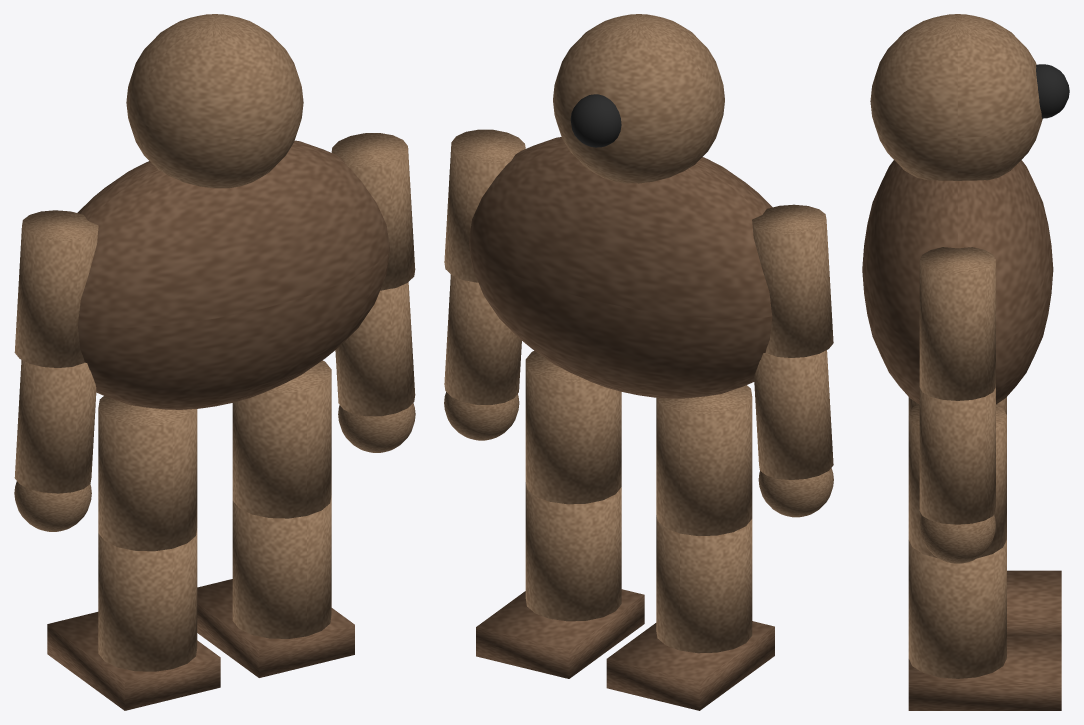
Rendered from cyclops.glb.
3 views of the same model, side by side, from view 1: azimuth 30°, elevation 25°; view 2: azimuth 150°, elevation 25°; view 3: azimuth 270°, elevation 25° (orthographic). The views are drawn at different scales.
Parts seen in each view (by area): view 1: Torso, Head, ThighL, ThighR, ShinL, ShinR, UpperArmL, ForearmL, ForearmR, FootL, FootR, UpperArmR (+2 smaller); view 2: Torso, Head, ThighL, ThighR, ShinR, ShinL, UpperArmL, ForearmL, FootR, FootL, ForearmR, UpperArmR (+3 smaller); view 3: Torso, Head, ShinR, UpperArmR, ForearmR, FootR, FootL, ThighR, HandR, EyeCentral.
Part boxes in pixels (box(x1,y1,x2,y2)): Torso: box(77, 140, 389, 409); Head: box(126, 14, 303, 188); ThighL: box(98, 396, 197, 551); ThighR: box(232, 360, 331, 518); ShinL: box(98, 528, 197, 671); ShinR: box(232, 495, 331, 638); UpperArmL: box(14, 210, 98, 367); ForearmL: box(14, 360, 96, 493); ForearmR: box(335, 282, 415, 416); FootL: box(47, 612, 220, 710); FootR: box(197, 579, 354, 677); UpperArmR: box(331, 133, 415, 290); Torso: box(468, 137, 772, 398); Head: box(553, 14, 724, 183); ThighL: box(656, 385, 752, 535); ThighR: box(525, 350, 621, 504); ShinR: box(525, 482, 621, 621); ShinL: box(656, 515, 752, 653); UpperArmL: box(752, 204, 833, 357); ForearmL: box(754, 350, 833, 479); FootR: box(476, 589, 644, 678); FootL: box(606, 621, 774, 710); ForearmR: box(444, 274, 521, 404); UpperArmR: box(444, 129, 525, 282); Torso: box(862, 160, 1053, 404); Head: box(870, 14, 1042, 180); ShinR: box(908, 540, 1006, 678); UpperArmR: box(919, 247, 995, 400); ForearmR: box(919, 387, 995, 524); FootR: box(908, 635, 1061, 710); FootL: box(1007, 570, 1061, 634); ThighR: box(908, 404, 1006, 558); HandR: box(919, 515, 995, 563); EyeCentral: box(1036, 64, 1069, 118).
Bounding box in the file's own units: 0.6367 × 1 × 0.2969.
3 materials, 2 textured.
